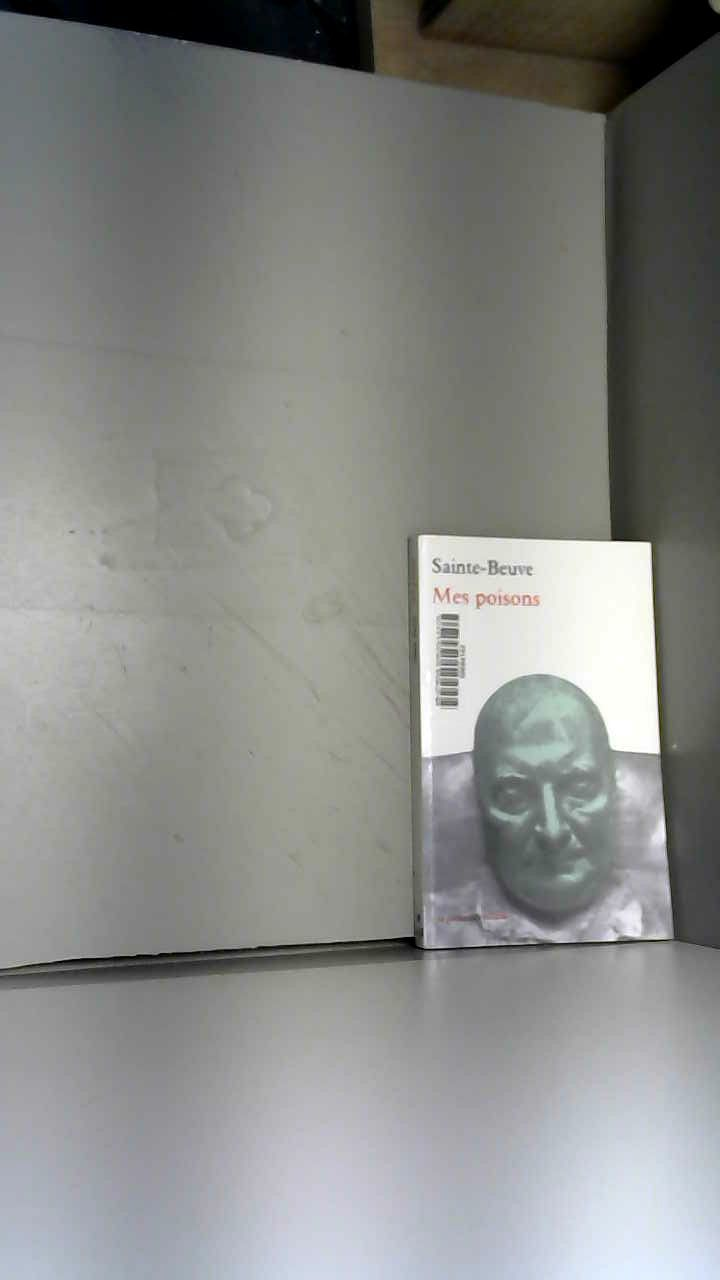book: (374, 490, 709, 983)
